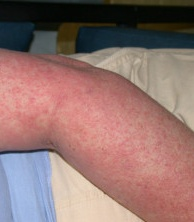SJS-TEN: (0, 25, 194, 222)
